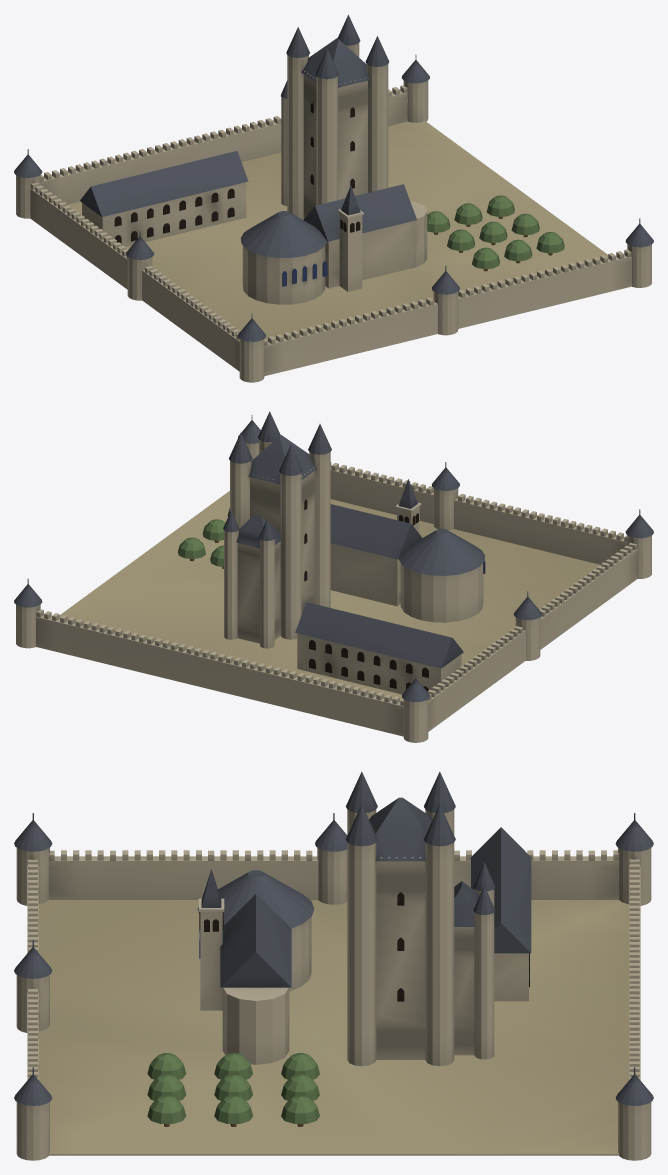
The model's file is temple.glb.
3 views of the same model, one above another, from view 1: azimuth 30°, elevation 25°; view 2: azimuth 150°, elevation 25°; view 3: azimuth 270°, elevation 25° (orthographic). The views are drawn at different scales.
Visible parts, largest first — view 1: p0_walls, p1_church, p2_keep; view 2: p0_walls, p1_church, p2_keep; view 3: p0_walls, p2_keep, p1_church.
Boxes of the visible parts, x1,y1,x2,y2 form: p0_walls: (14,54,653,382); p1_church: (80,151,564,304); p2_keep: (281,14,389,219); p0_walls: (14,415,653,742); p1_church: (178,479,485,694); p2_keep: (223,411,331,648); p0_walls: (14,813,653,1160); p2_keep: (346,771,495,1066); p1_church: (147,827,531,1126).
Bounding box in the file's own units: 115 × 51.05 × 115.
